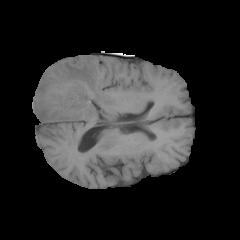glioma: (34, 59, 107, 127)
